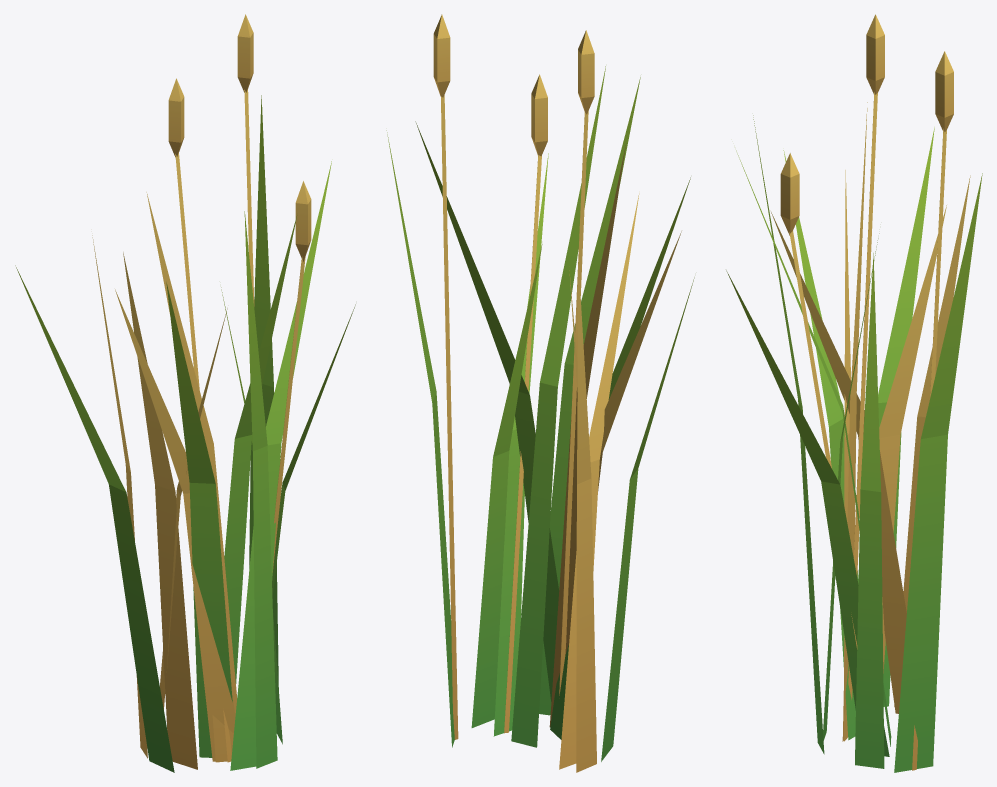
The model's file is tallgrass.glb.
The picture shows the model from 3 angles, left to right: view 1: azimuth 30°, elevation 25°; view 2: azimuth 150°, elevation 25°; view 3: azimuth 270°, elevation 25°; orthographic projection. The views are drawn at different scales.
Parts seen in each view (by area): view 1: tallgrass; view 2: tallgrass; view 3: tallgrass.
Boxes of the visible parts, x1,y1,x2,y2 form: tallgrass: (15,14,355,772); tallgrass: (386,14,694,772); tallgrass: (726,14,982,772).
Bounding box in the file's own units: 1.12 × 2.56 × 0.8318.
1 material, 1 textured.
